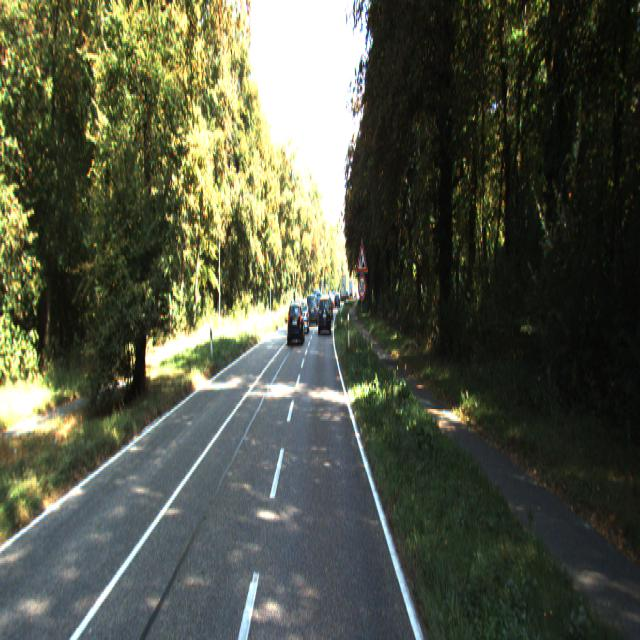Car: (286, 298, 304, 344), (318, 293, 330, 330)
